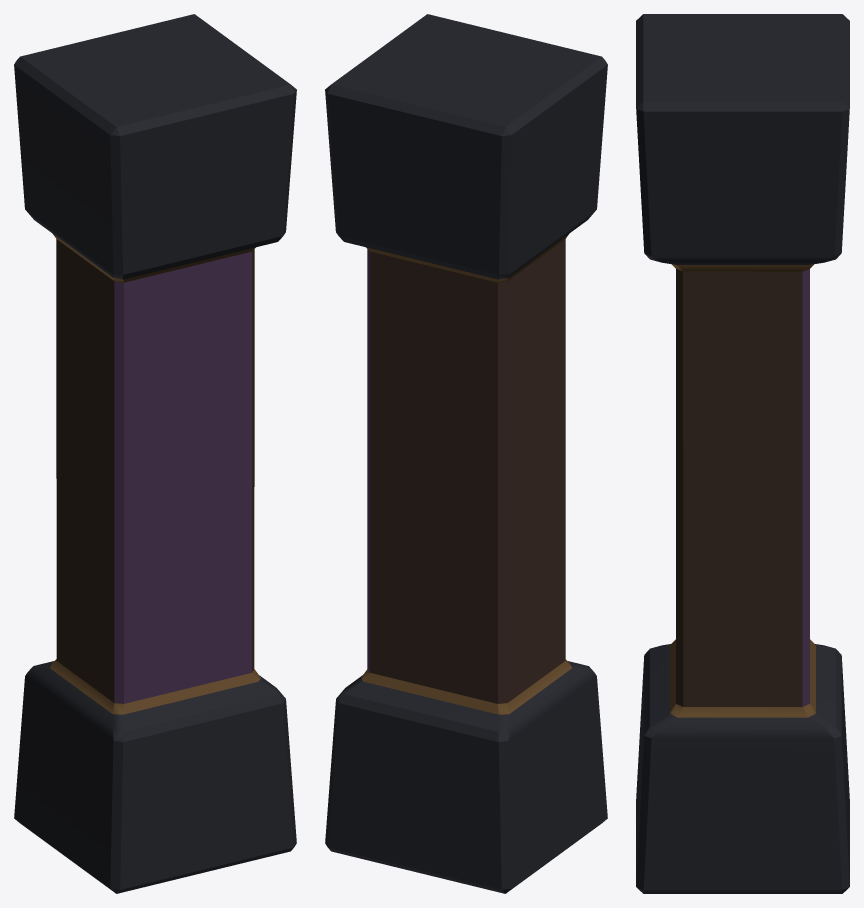
File: WallCorner.fbx
3 renders of one model, left to right at view 1: azimuth 30°, elevation 25°; view 2: azimuth 150°, elevation 25°; view 3: azimuth 270°, elevation 25°, orthographic. The views are drawn at different scales.
Visible parts, largest first — view 1: polySurface17; view 2: polySurface17; view 3: polySurface17.
Boxes of the visible parts, bbox=[...] form: polySurface17: bbox=[14, 14, 296, 893]; polySurface17: bbox=[325, 14, 607, 893]; polySurface17: bbox=[636, 14, 849, 893].
Size of the model in its own units: 5.41 by 21.23 by 5.19.
